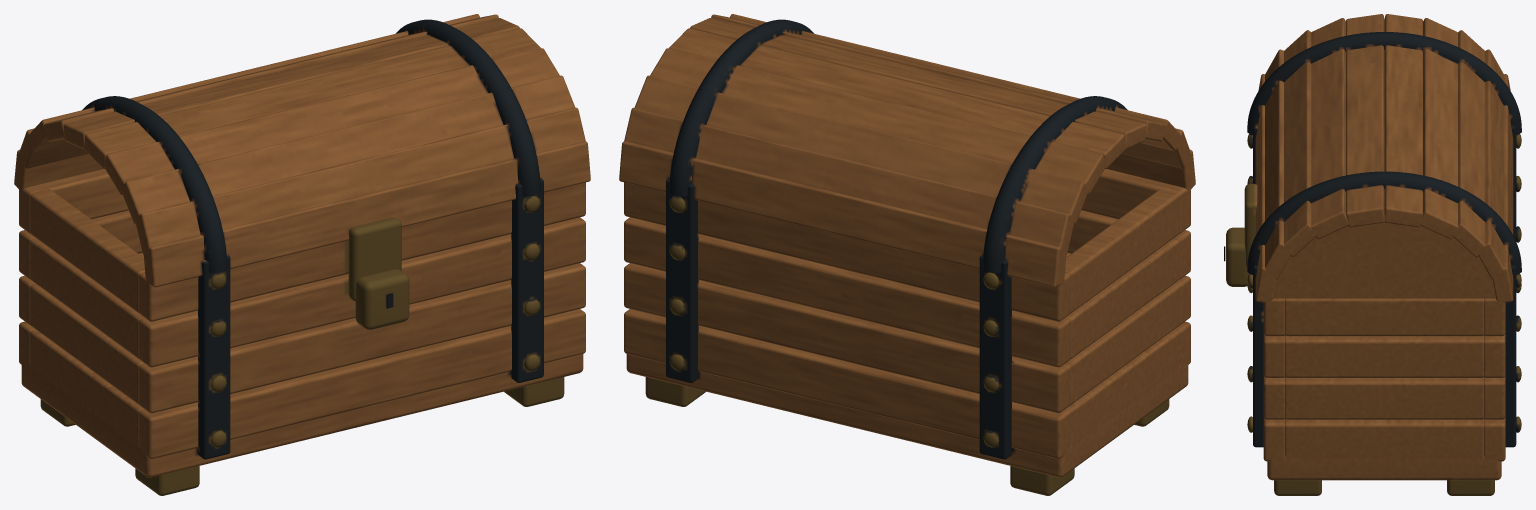
The model's file is chest.glb.
The picture shows the model from 3 angles, left to right: view 1: azimuth 30°, elevation 25°; view 2: azimuth 150°, elevation 25°; view 3: azimuth 270°, elevation 25°; orthographic projection. The views are drawn at different scales.
Visible parts, largest first — view 1: Chest_export_target.006; view 2: Chest_export_target.006; view 3: Chest_export_target.006.
Boxes of the visible parts, box(x1,y1,x2,y2) form: Chest_export_target.006: box(14, 14, 590, 495); Chest_export_target.006: box(619, 14, 1195, 495); Chest_export_target.006: box(1224, 14, 1521, 495).
Size of the model in its own units: 2.4 by 1.75 by 1.55.
1 material, 1 textured.
